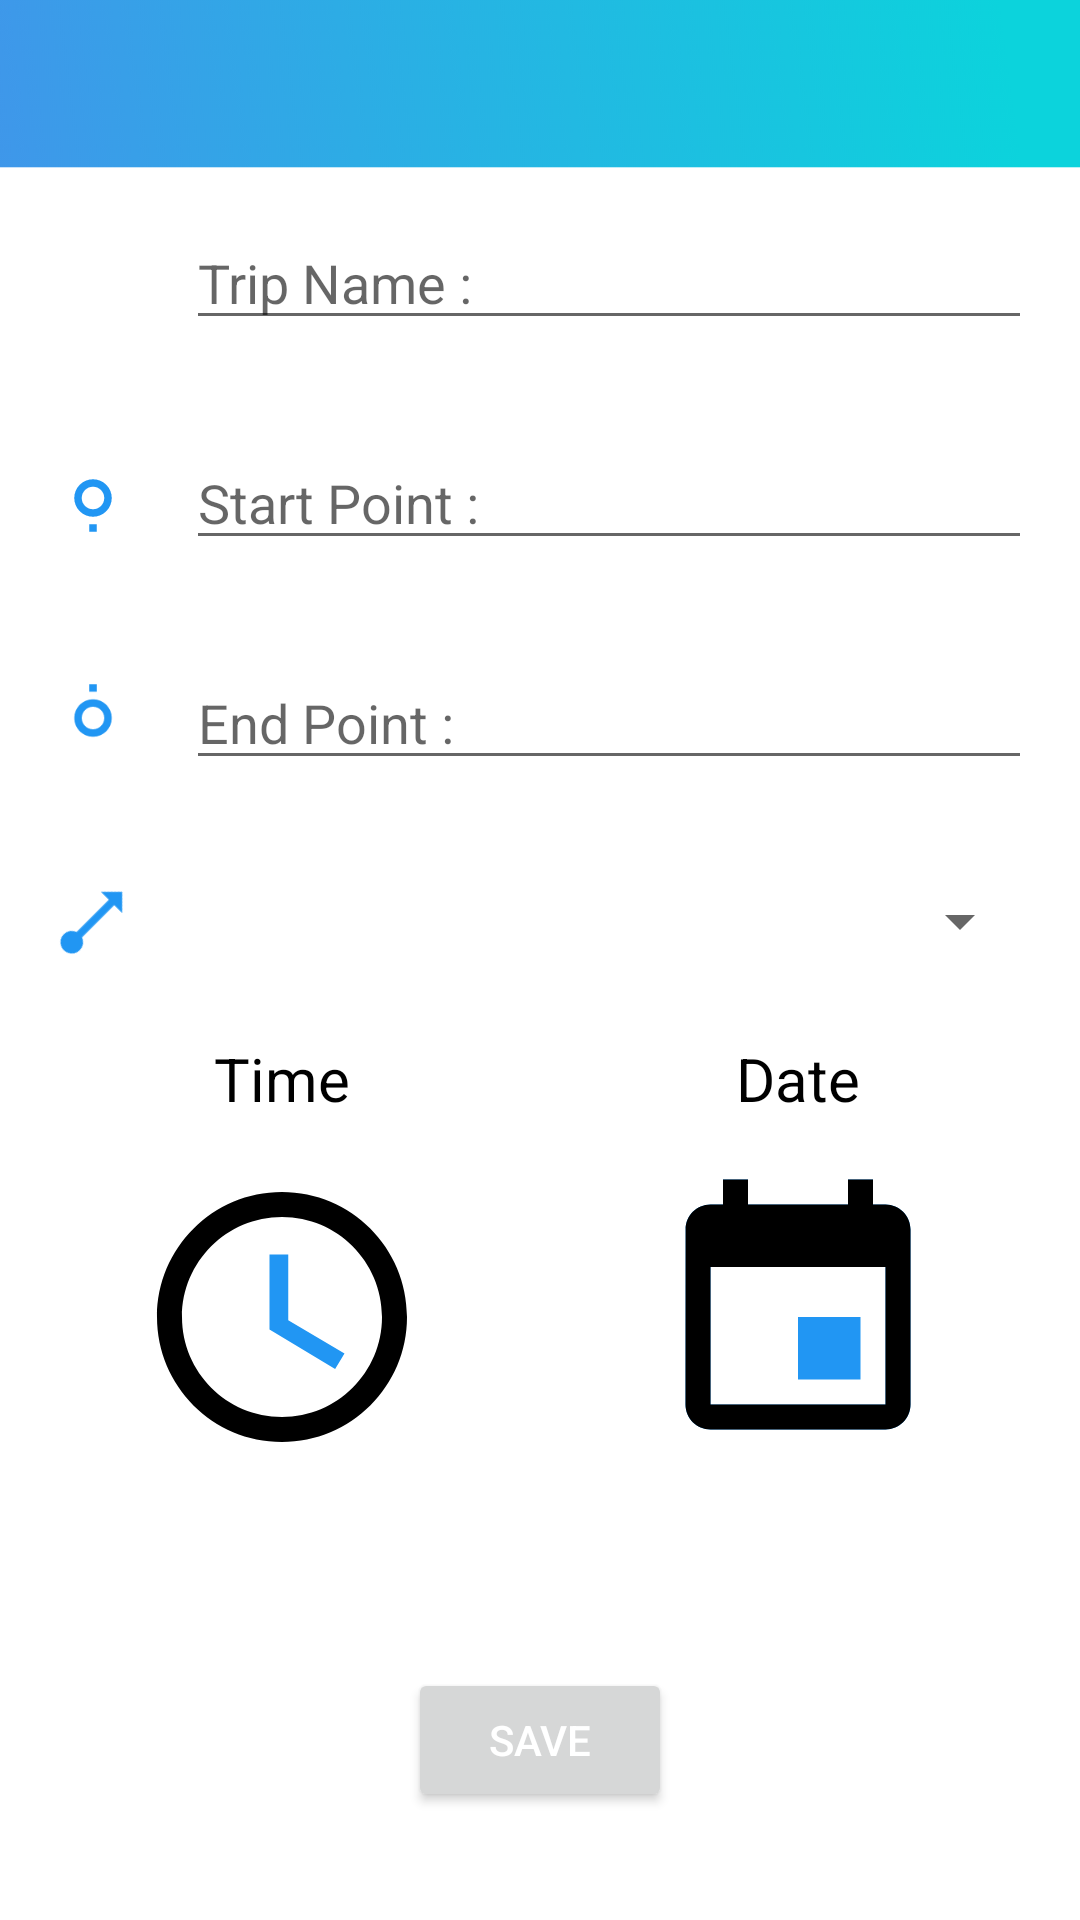

Named icons in this screenshot (1080 x 1920) and their bounding boxes, region(x1, y1, x2, y2):
event: region(685, 1179, 911, 1430)
